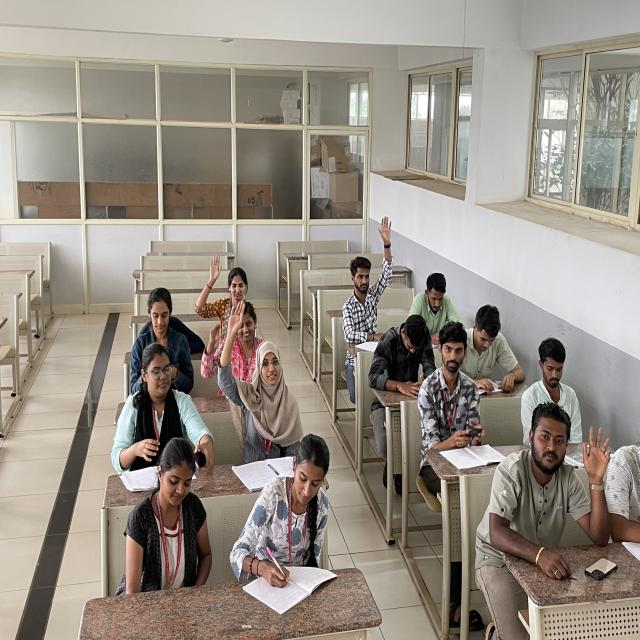Hand Rising: (496, 388, 625, 557), (214, 312, 302, 454), (341, 217, 400, 330), (192, 252, 254, 320)
Using Phone: (418, 320, 497, 466), (369, 312, 429, 392)
Writing: (234, 436, 334, 605)
